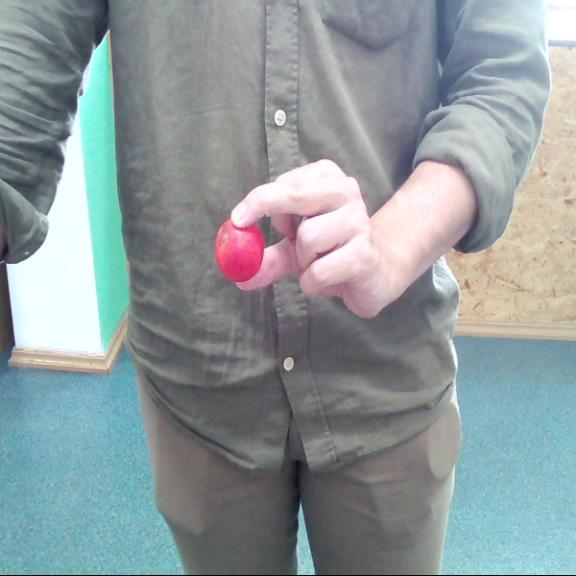ball: (218, 218, 264, 280)
